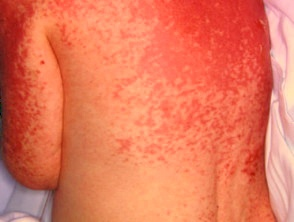SJS-TEN: (0, 0, 275, 184)
